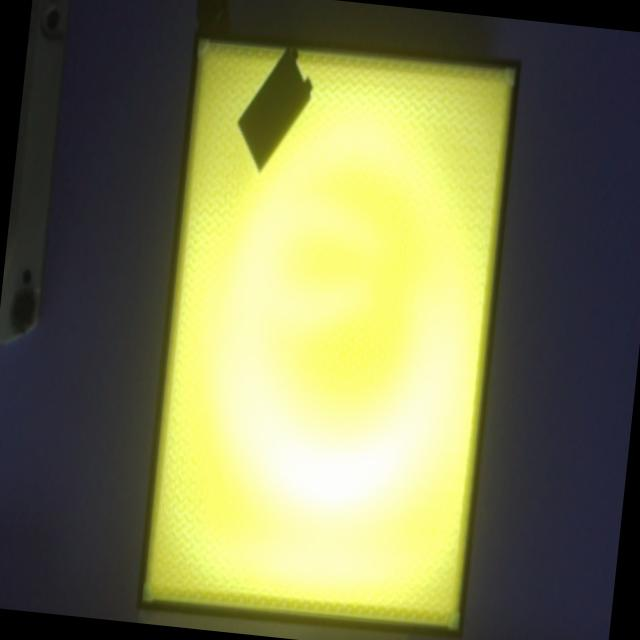bateria: (236, 46, 313, 173)
mesa: (133, 27, 522, 640)
